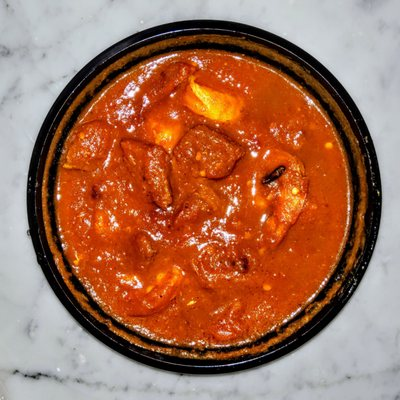sushi: (2, 15, 383, 378)
